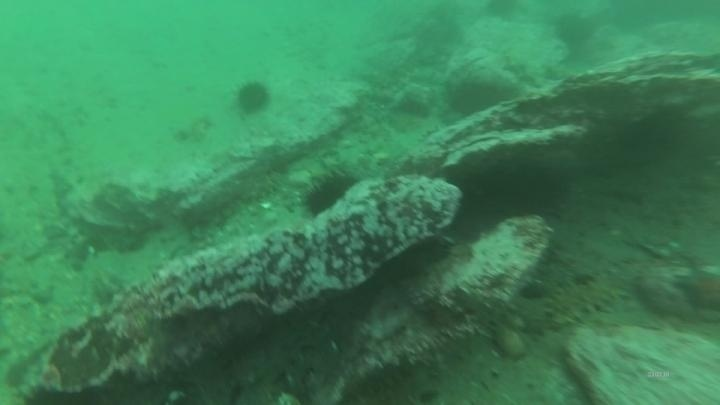echinus: (300, 168, 358, 219), (445, 75, 508, 120), (551, 11, 596, 50), (233, 78, 273, 118), (482, 1, 523, 24)
holothurian: (542, 273, 630, 330)
starfish: (672, 264, 720, 317)
